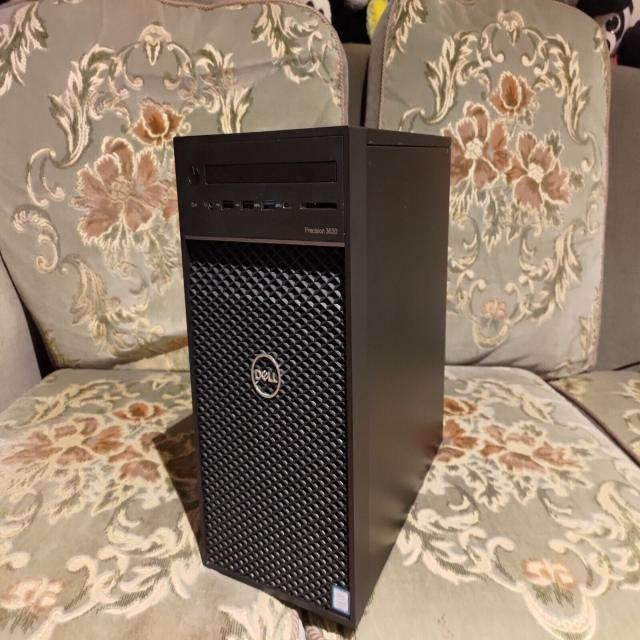Desktop-PC: (146, 109, 502, 622)
